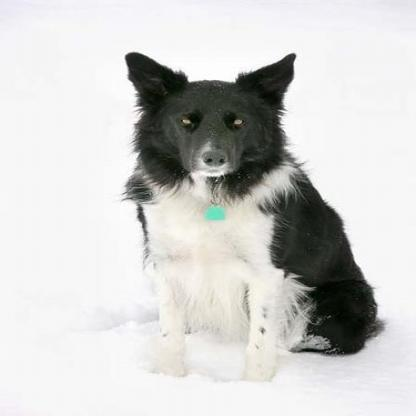Border_collie: (61, 50, 387, 384)
